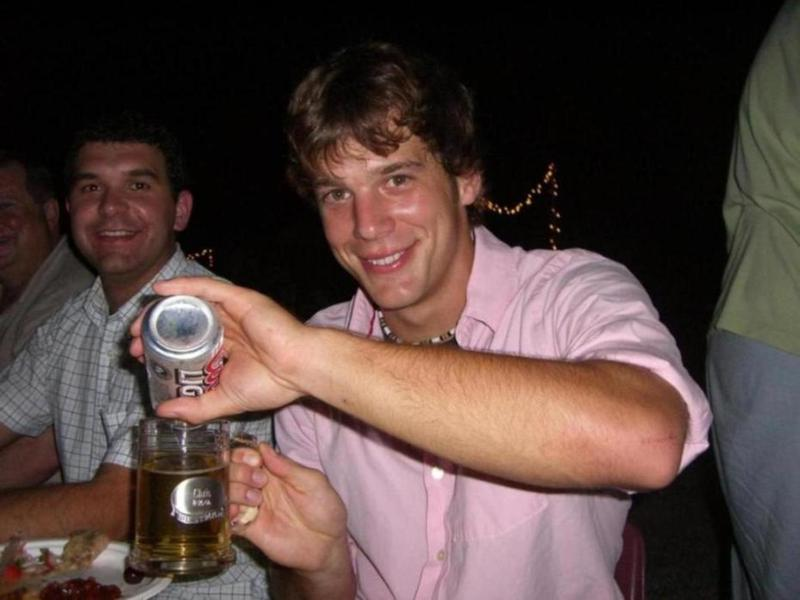person: (125, 40, 714, 599)
